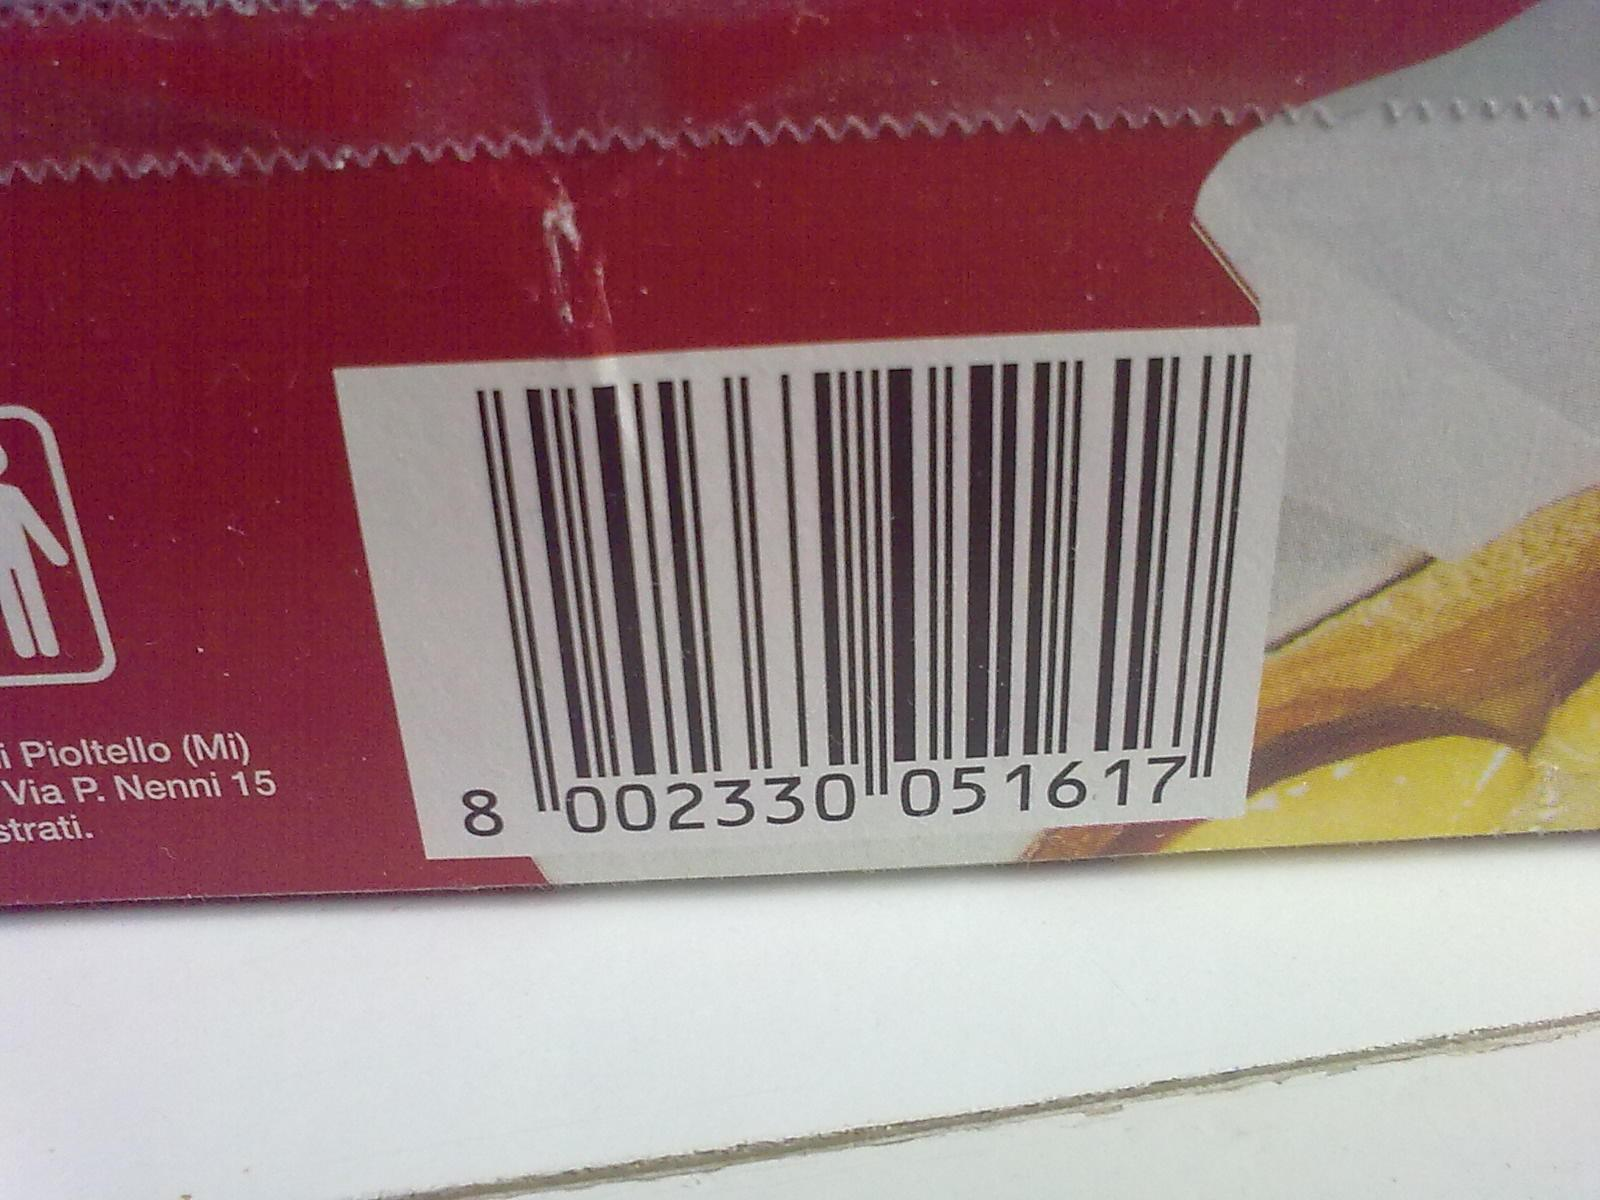Barcode: (329, 316, 1301, 870)
